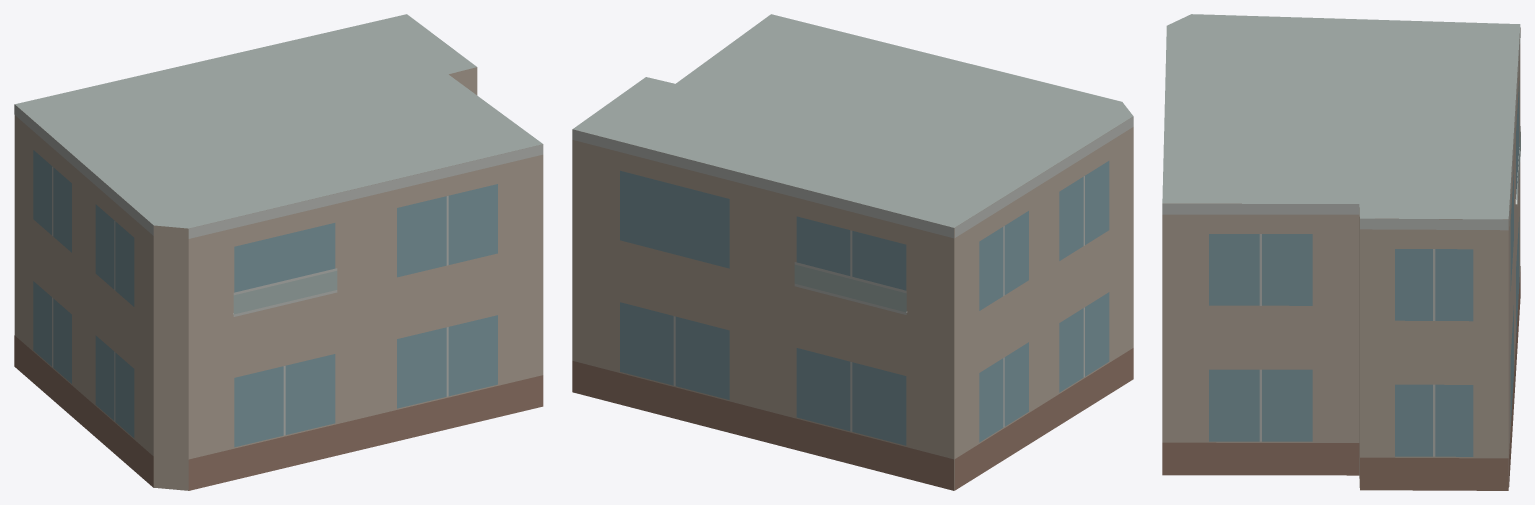
The model's file is survey-upis-32800233.glb.
3 renders of one model, left to right at view 1: azimuth 30°, elevation 25°; view 2: azimuth 150°, elevation 25°; view 3: azimuth 270°, elevation 25°, orthographic. The views are drawn at different scales.
Visible parts, largest first — view 1: survey-upis-32800233.tmp; view 2: survey-upis-32800233.tmp; view 3: survey-upis-32800233.tmp.
Boxes of the visible parts, x1,y1,x2,y2 form: survey-upis-32800233.tmp: (14, 14, 543, 490); survey-upis-32800233.tmp: (572, 14, 1133, 490); survey-upis-32800233.tmp: (1162, 14, 1520, 490).
Size of the model in its own units: 9.9 by 6.1 by 7.31.
